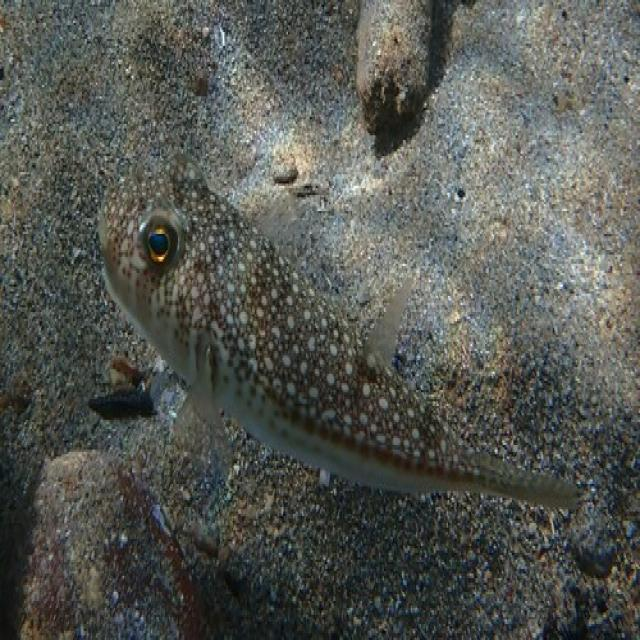Balik: (100, 156, 577, 506)
